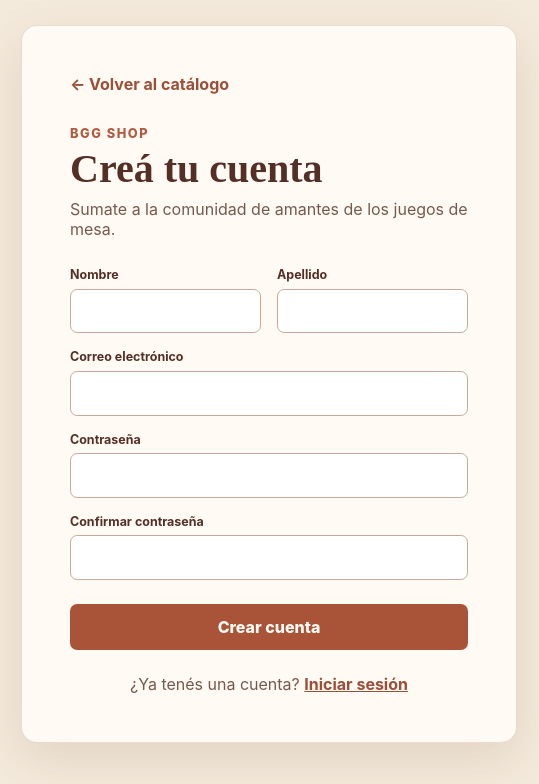
Test: authentication screens › shows a validation message when registration passwords do not match
Type "Test" into the field labelled "Nombre" at (166, 311), box left=70, top=288, right=261, bottom=333
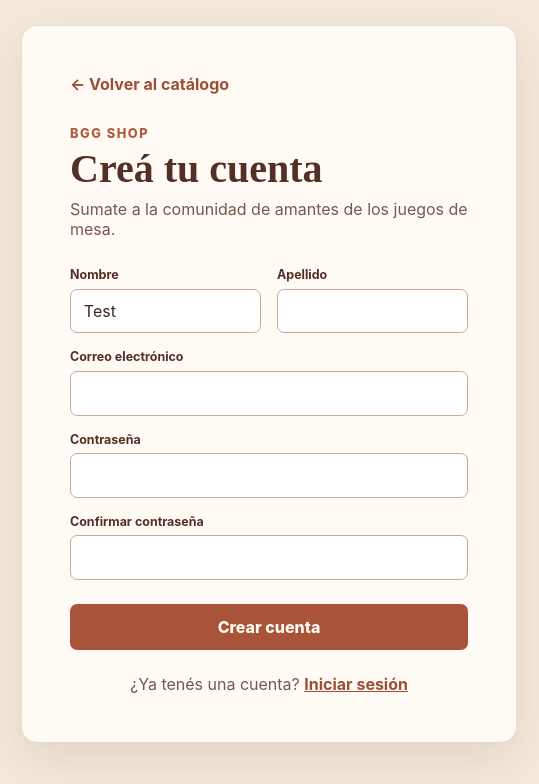
Type "Player" into the field labelled "Apellido" at (372, 311), box left=277, top=288, right=468, bottom=333
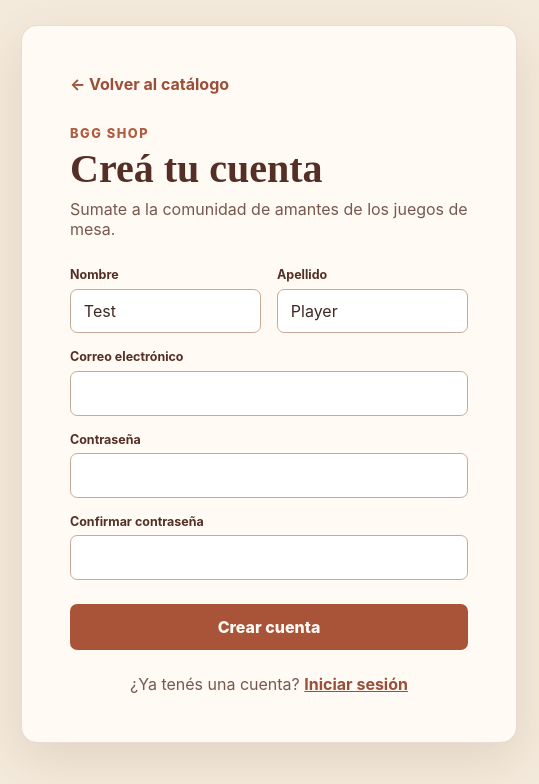
Type "player@example.test" into the field labelled "Correo electrónico" at (269, 393), box left=70, top=371, right=468, bottom=416
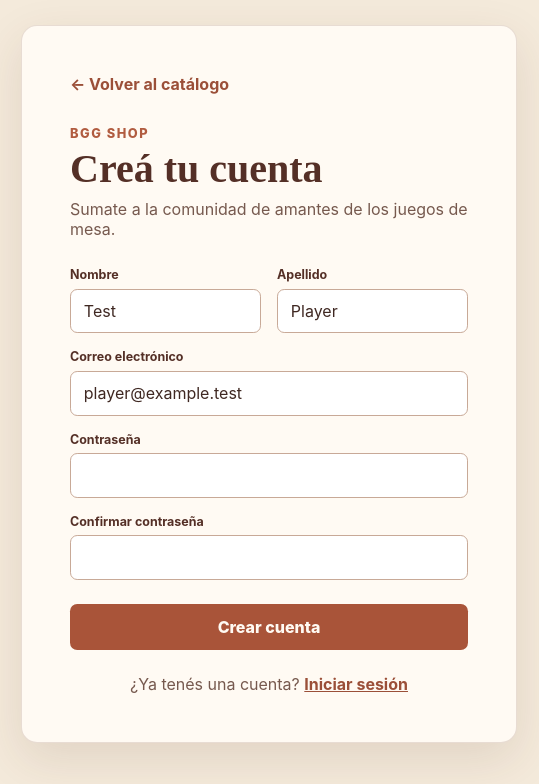
Type "first-password" into the password field labelled "Contraseña" at (269, 475), box left=70, top=453, right=468, bottom=498
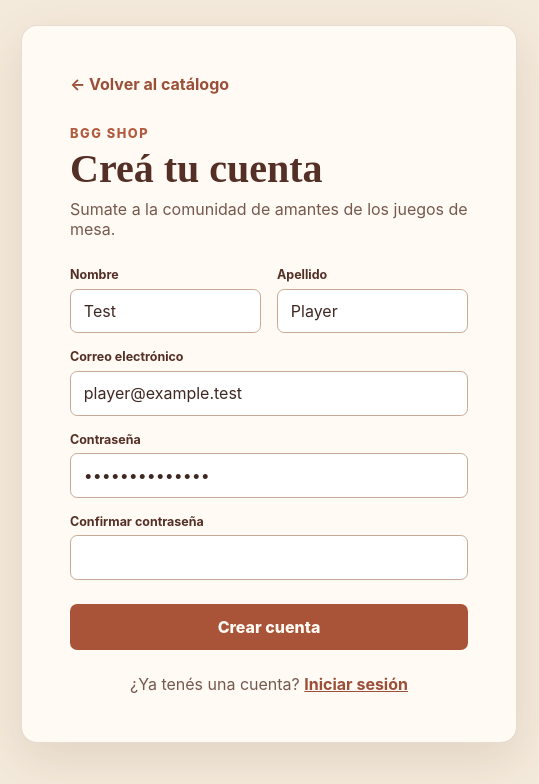
Type "different-password" into the password field labelled "Confirmar contraseña" at (269, 558), box left=70, top=535, right=468, bottom=580
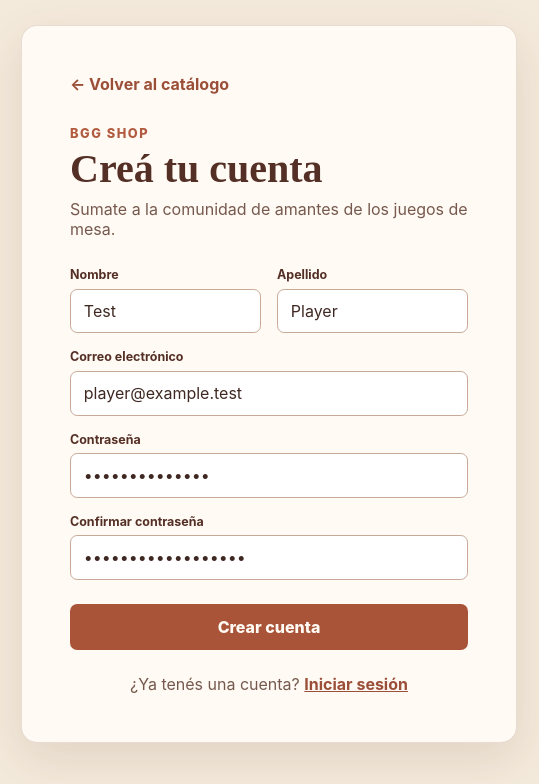
Click the button "Crear cuenta" at (269, 627), box left=70, top=604, right=468, bottom=650
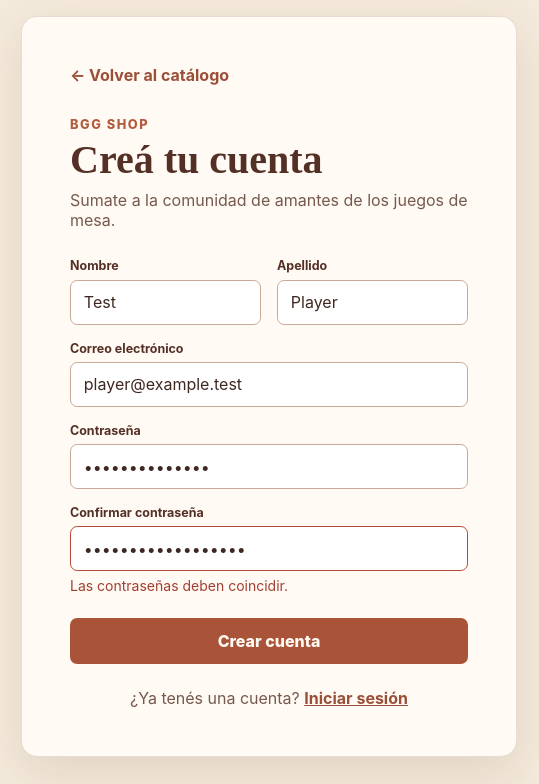
Check: the message "Las contraseñas deben coincidir." is shown, box left=70, top=577, right=288, bottom=594
